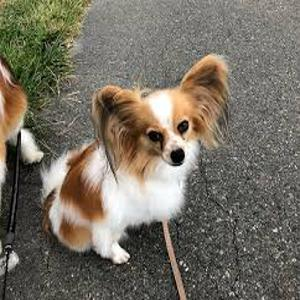yell: (40, 53, 230, 262)
